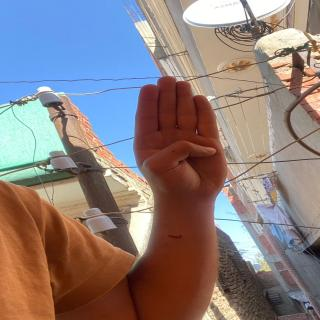KAAF: (117, 63, 256, 196)
